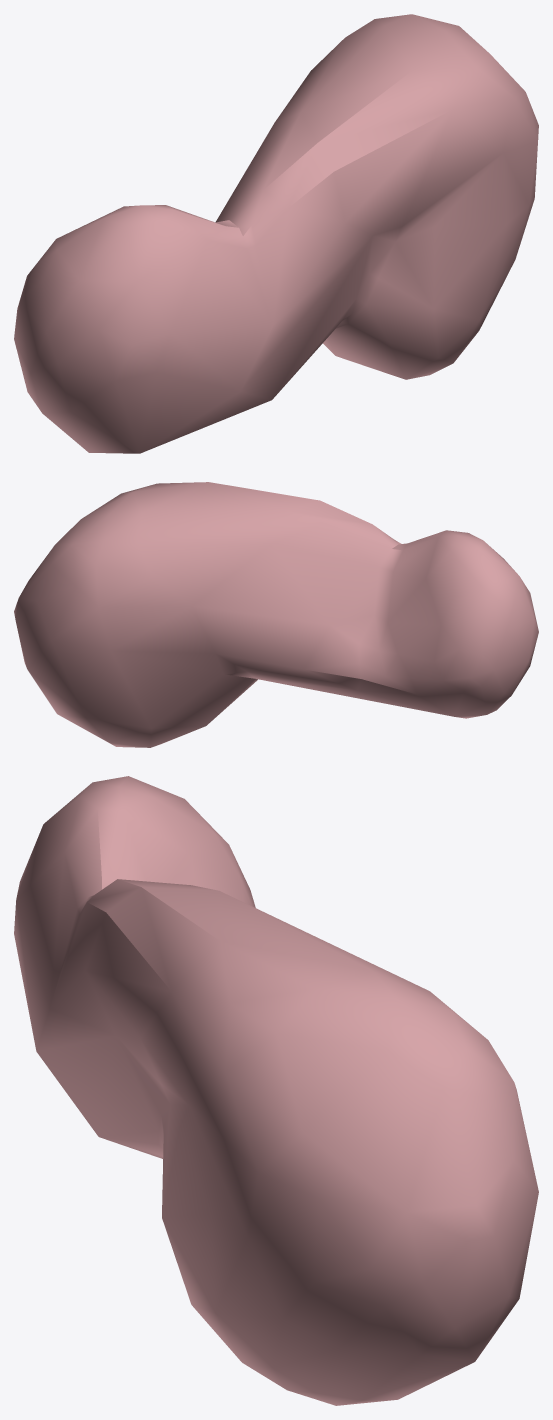
File: fma14965_fj2577.glb
The picture shows the model from 3 angles, top to bottom: view 1: azimuth 30°, elevation 25°; view 2: azimuth 150°, elevation 25°; view 3: azimuth 270°, elevation 25°; orthographic projection. The views are drawn at different scales.
Visible parts, largest first — view 1: FMA14965_FJ2577; view 2: FMA14965_FJ2577; view 3: FMA14965_FJ2577.
Boxes of the visible parts, box(x1,y1,x2,y2) form: FMA14965_FJ2577: box(14, 14, 538, 453); FMA14965_FJ2577: box(14, 482, 538, 747); FMA14965_FJ2577: box(14, 776, 538, 1405).
Bounding box in the file's own units: 0.0569 × 0.031 × 0.0344.
